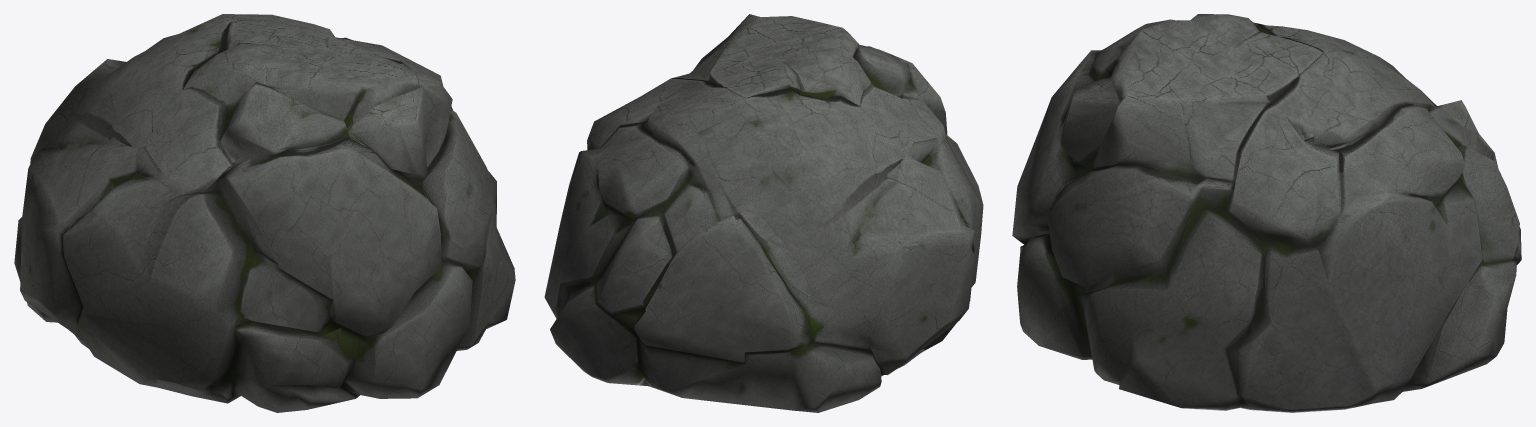
The model's file is boulder.glb.
The picture shows the model from 3 angles, left to right: view 1: azimuth 30°, elevation 25°; view 2: azimuth 150°, elevation 25°; view 3: azimuth 270°, elevation 25°; orthographic projection. The views are drawn at different scales.
Bounding box in the file's own units: 0.9194 × 0.583 × 0.9521.
Materials: 1 (1 with a texture image).
